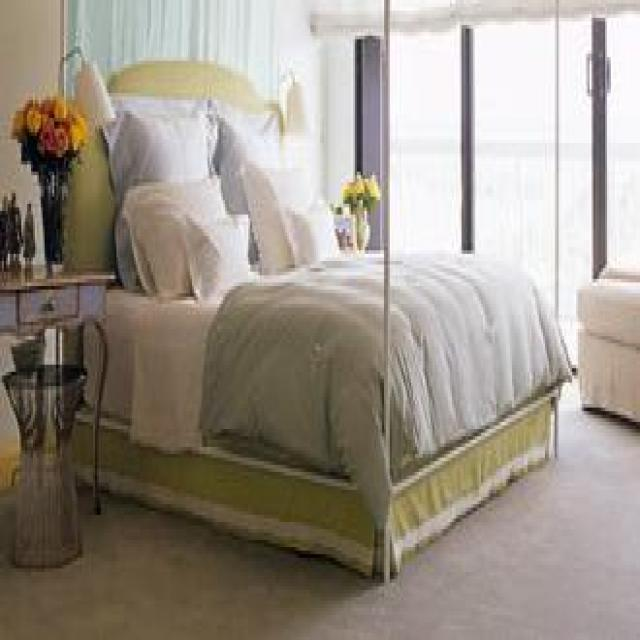bed: (58, 46, 574, 583)
